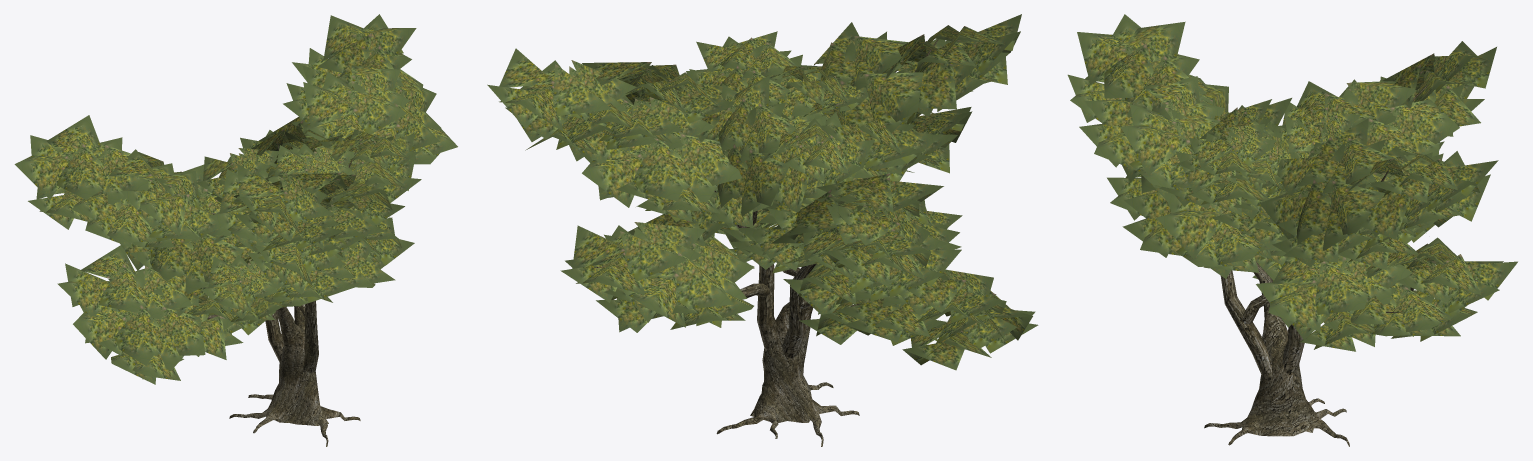
Rendered from oak-summer-b.DAE.
The picture shows the model from 3 angles, left to right: view 1: azimuth 30°, elevation 25°; view 2: azimuth 150°, elevation 25°; view 3: azimuth 270°, elevation 25°; orthographic projection. The views are drawn at different scales.
Parts seen in each view (by area): view 1: oak_b; view 2: oak_b; view 3: oak_b.
Boxes of the visible parts, box(x1,y1,x2,y2) form: oak_b: box(14, 14, 457, 446); oak_b: box(487, 14, 1038, 446); oak_b: box(1067, 14, 1517, 446).
Bounding box in the file's own units: 1744 × 1537 × 1326.
